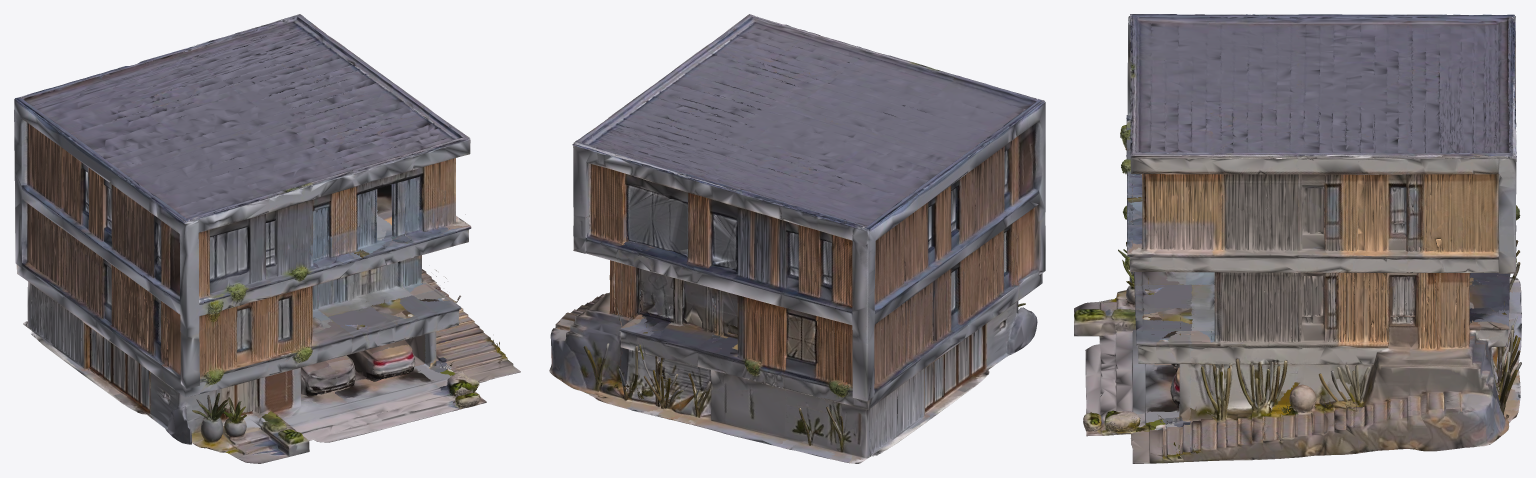
The model's file is villa-mesh.glb.
3 views of the same model, side by side, from view 1: azimuth 30°, elevation 25°; view 2: azimuth 150°, elevation 25°; view 3: azimuth 270°, elevation 25° (orthographic). The views are drawn at different scales.
Visible parts, largest first — view 1: tmp49w1y0fyobj; view 2: tmp49w1y0fyobj; view 3: tmp49w1y0fyobj.
Boxes of the visible parts, box(x1,y1,x2,y2) form: tmp49w1y0fyobj: box(14, 14, 520, 463); tmp49w1y0fyobj: box(549, 14, 1045, 463); tmp49w1y0fyobj: box(1074, 14, 1521, 463).
Bounding box in the file's own units: 0.9952 × 0.7007 × 0.9997.
Materials: 1 (1 with a texture image).
